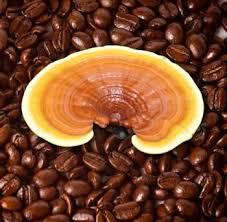Ganoderma - Fruit Body: (20, 43, 206, 155)
